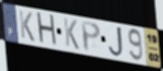9: (128, 28, 145, 63)
H: (36, 10, 59, 48)
J: (107, 25, 125, 58)
K: (62, 16, 81, 51), (18, 9, 36, 43)
P: (79, 20, 102, 54)
